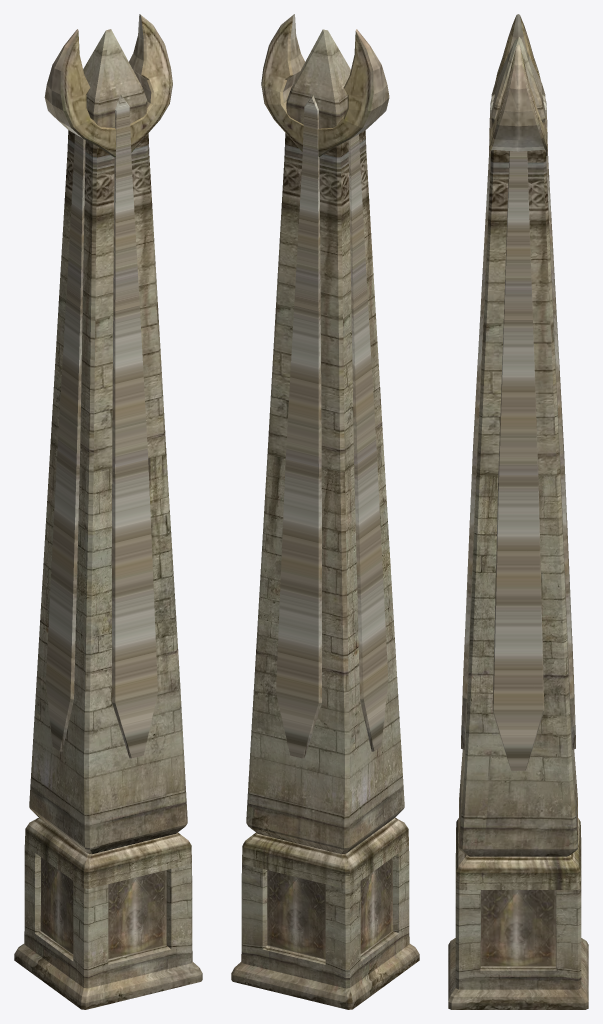
The model's file is TW2_5_TEMPLE_02_4-transformed.glb.
3 renders of one model, left to right at view 1: azimuth 30°, elevation 25°; view 2: azimuth 150°, elevation 25°; view 3: azimuth 270°, elevation 25°, orthographic.
Parts seen in each view (by area): view 1: default; view 2: default; view 3: default.
Part boxes in pixels (<box>): default: <box>14,14,202,1009</box>; default: <box>231,14,419,1009</box>; default: <box>448,14,588,1009</box>.
Size of the model in its own units: 1.74 by 12.98 by 1.74.
Materials: 2 (2 with a texture image).
